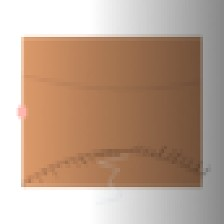foreign_body_visible: (115, 108, 147, 134)
